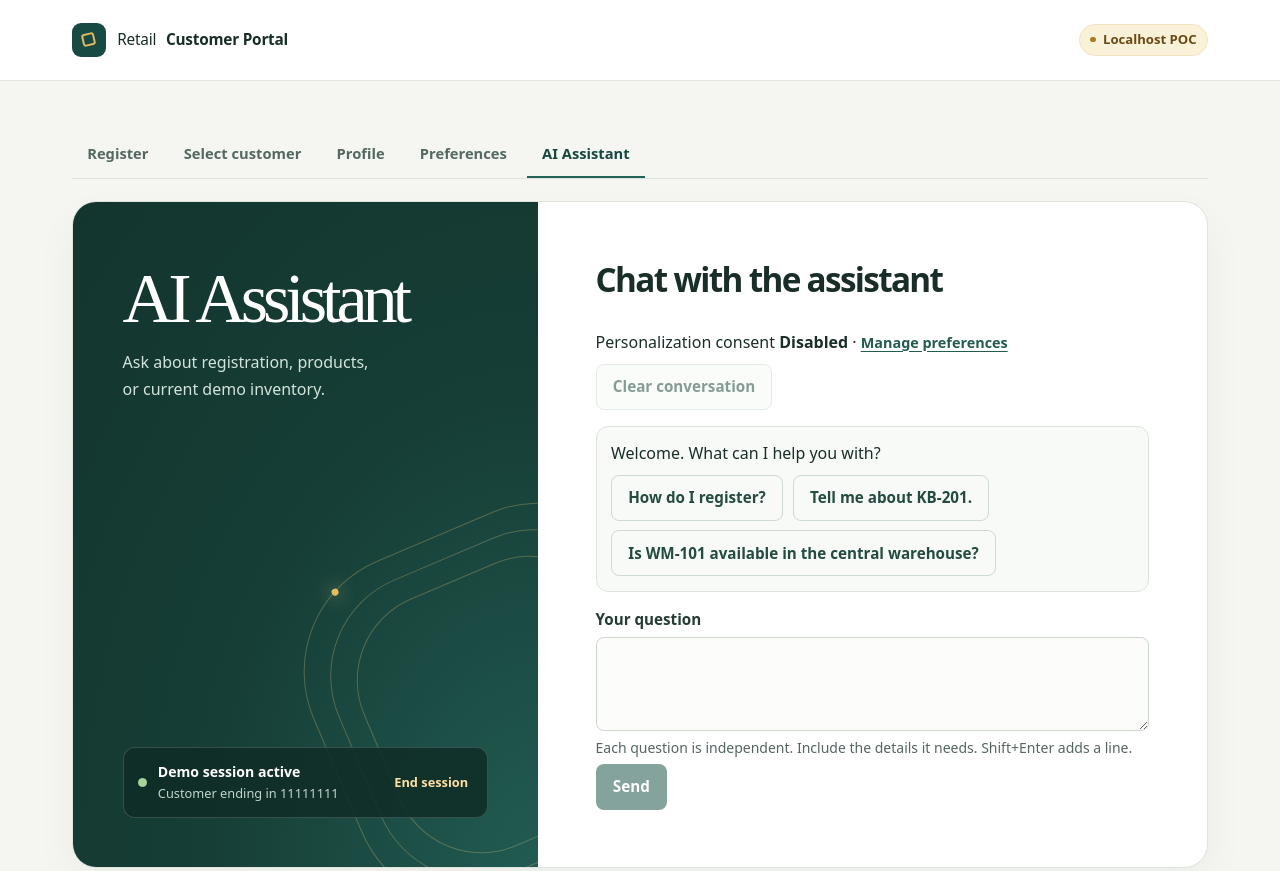
it: renders explicit warehouse limitation without a fabricated count
The image size is (1280, 871).
Type "Is KB-201 in the central warehouse?" into the text box labelled "Your question". click: (872, 684)
box: x1=596 y1=637 x2=1149 y2=732
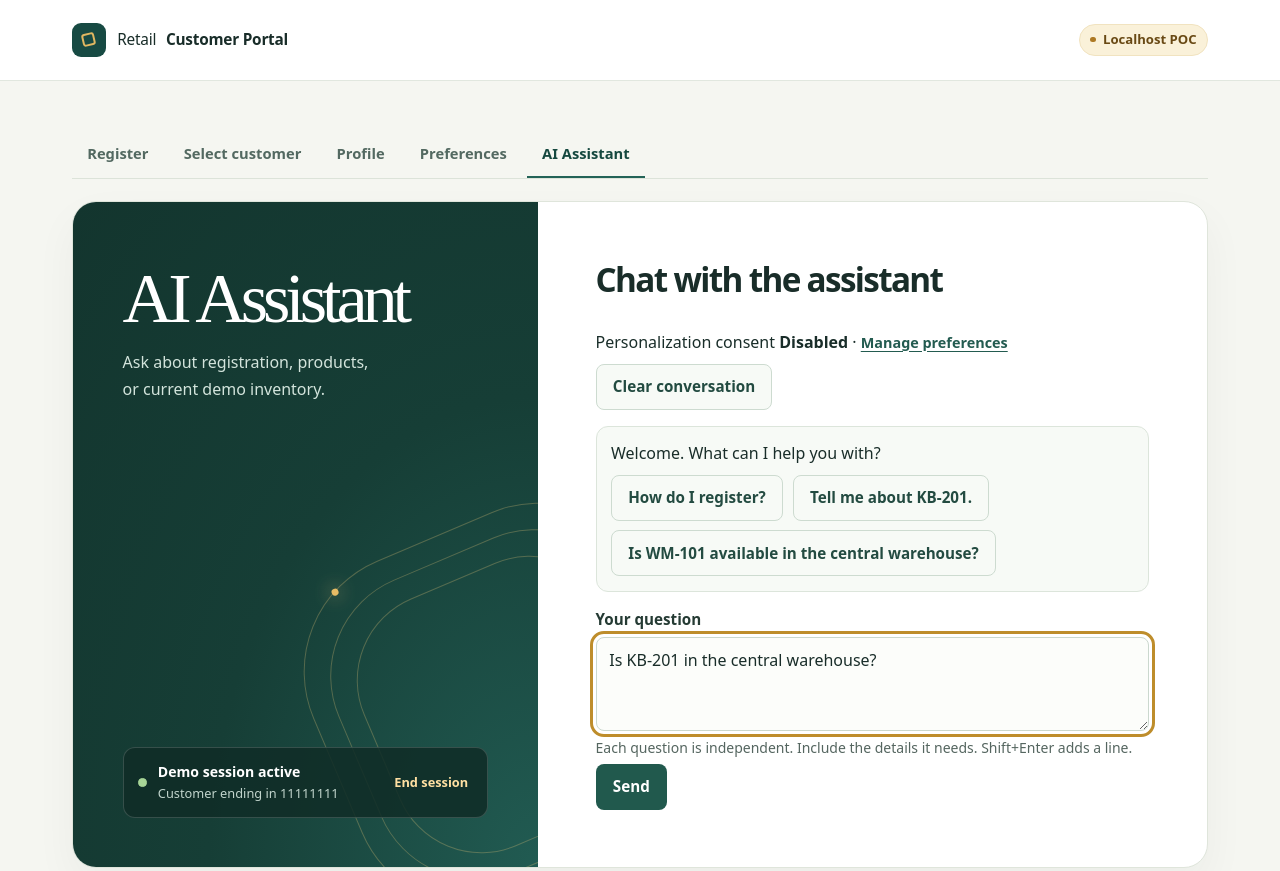
Click the button "Send". click: (631, 787)
box: x1=596 y1=764 x2=667 y2=810
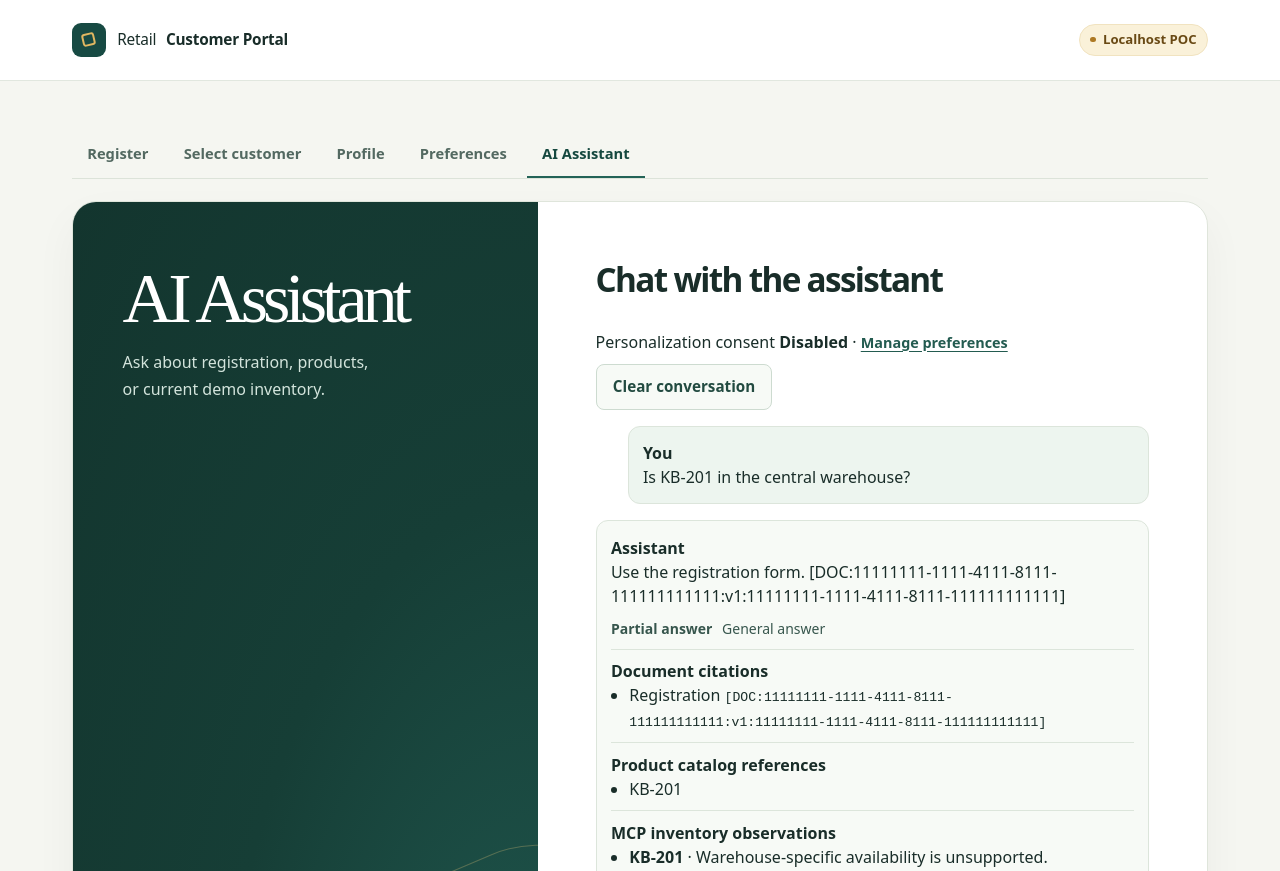
Expected: the list item "Warehouse-specific availability is unsupported" is shown, x1=696 y1=846 x2=1048 y2=868
Expected: the text "Partial answer" is shown, x1=611 y1=618 x2=712 y2=639
